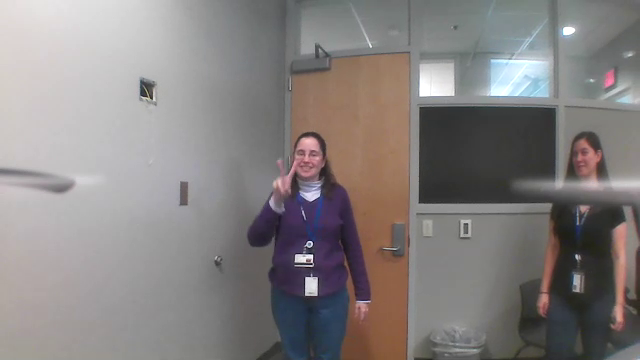peace: (268, 151, 302, 201)
